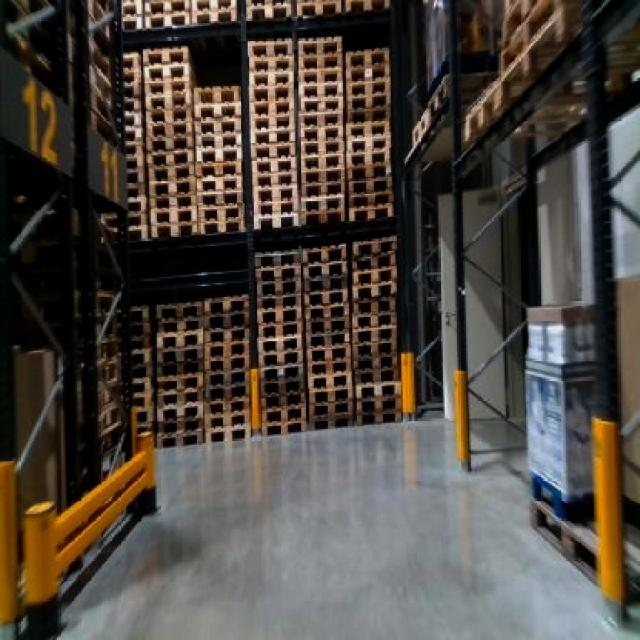floor: (55, 418, 637, 637)
pallets: (122, 0, 398, 443)
